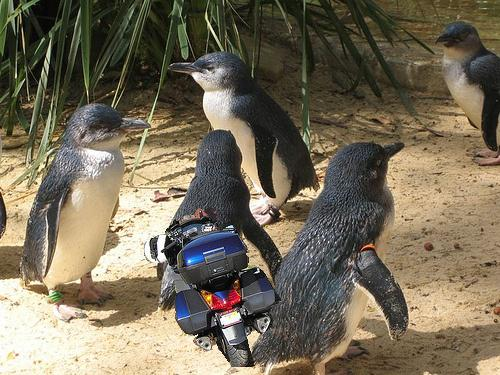tampered: (145, 208, 281, 367)
